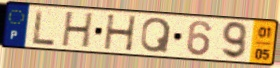6: (184, 19, 214, 57)
9: (220, 21, 249, 61)
H: (59, 11, 96, 50), (103, 14, 139, 53)
L: (32, 8, 57, 47)
Q: (139, 16, 173, 54)
